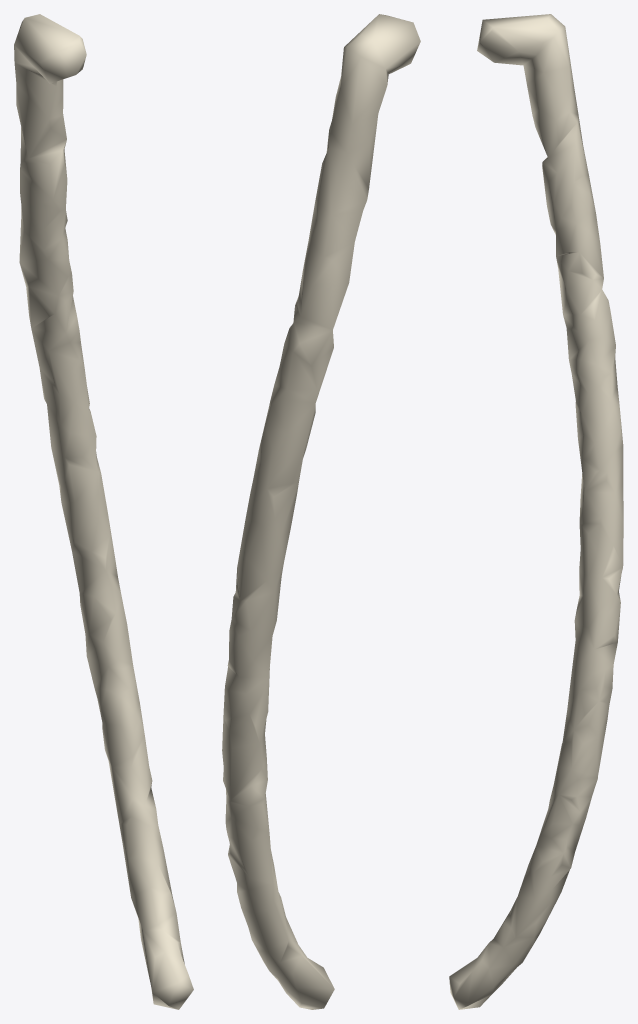
Rendered from rib_1_r.glb.
The picture shows the model from 3 angles, left to right: view 1: azimuth 30°, elevation 25°; view 2: azimuth 150°, elevation 25°; view 3: azimuth 270°, elevation 25°; orthographic projection. The views are drawn at different scales.
Visible parts, largest first — view 1: geometry_0; view 2: geometry_0; view 3: geometry_0.
Boxes of the visible parts, x1,y1,x2,y2 form: geometry_0: (14, 14, 193, 1009); geometry_0: (222, 14, 420, 1009); geometry_0: (449, 14, 623, 1009).
Size of the model in its own units: 0.156 by 0.9931 by 0.1656.
